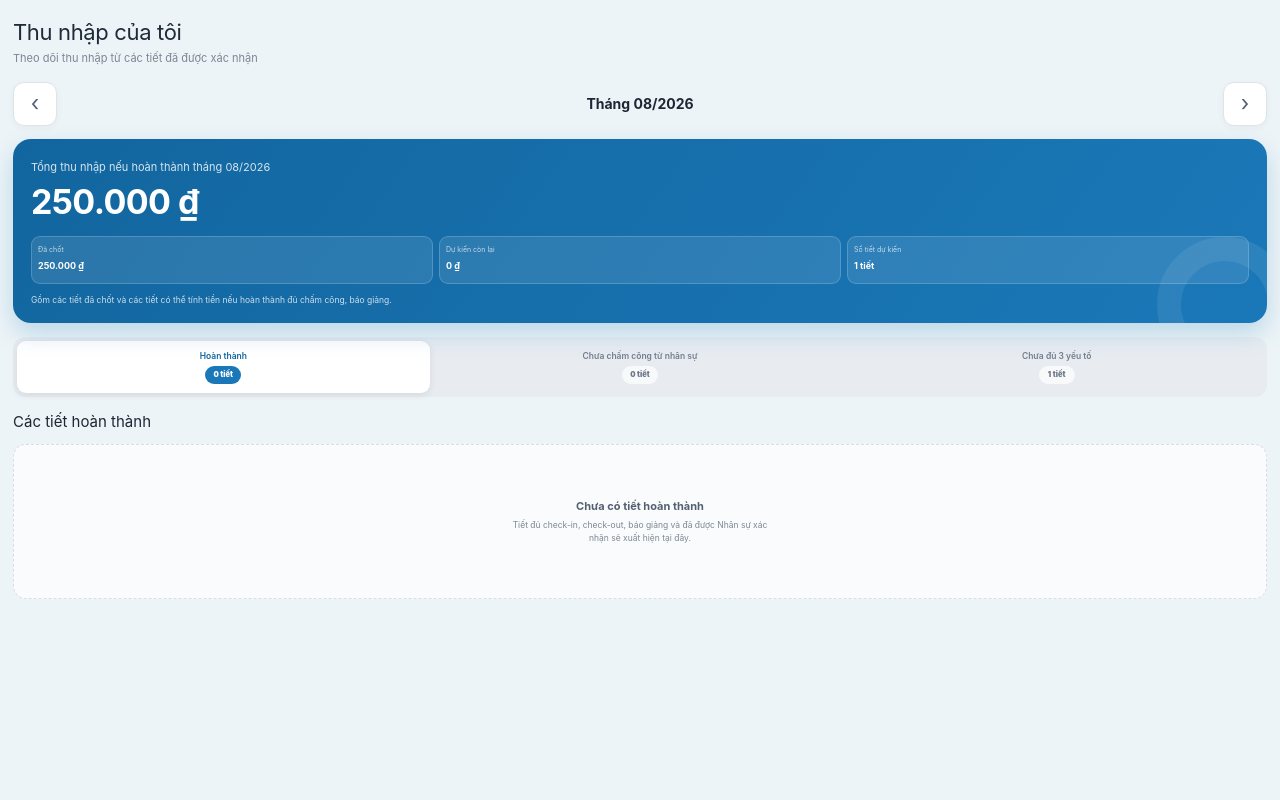
Test: TeacherIncomeScreen › đánh dấu tiết liên tục là đủ check-in và check-out trong nhóm doanh thu
Click the tab "Chưa đủ 3 yếu tố 1 tiết": (1057, 367) [850,341,1263,393]
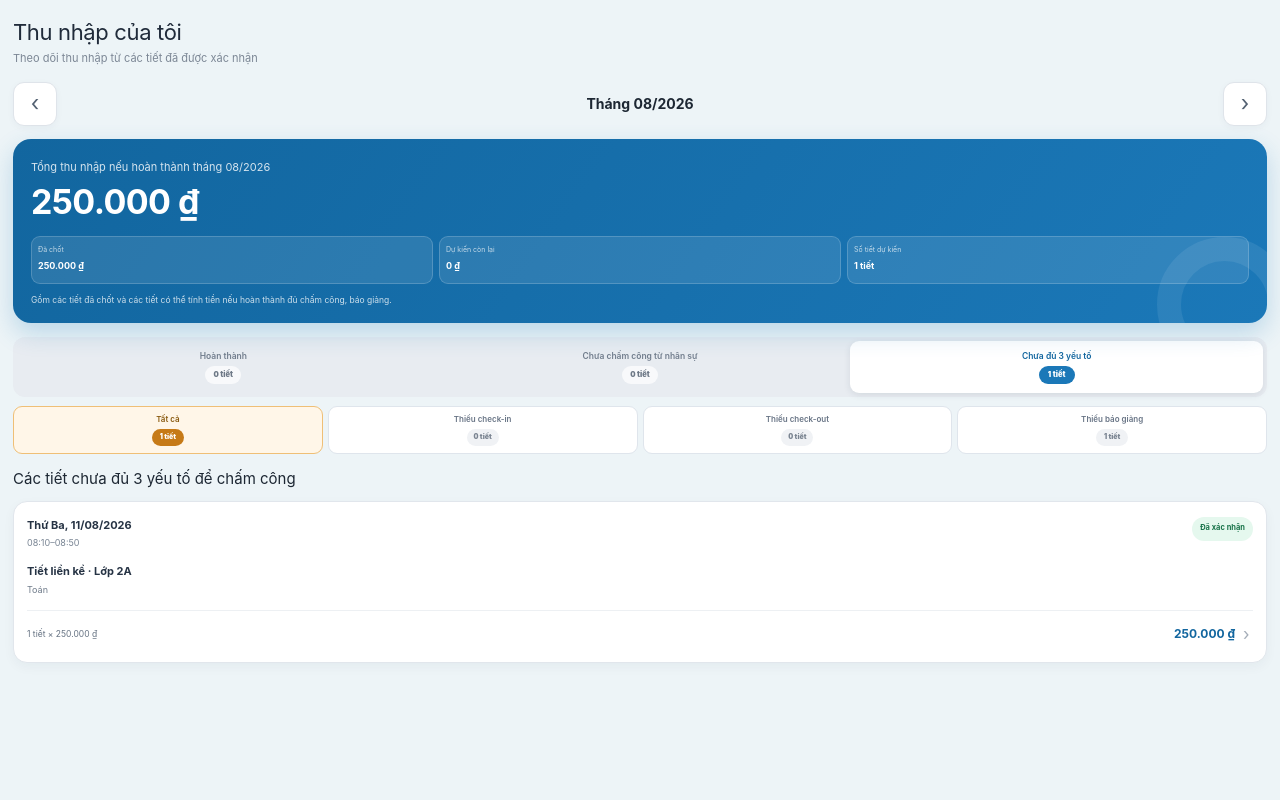
expect the button "Thiếu check-in 0 tiết" is shown: met, box [328,406,638,454]
expect the button "Thiếu check-out 0 tiết" is shown: met, box [642,406,952,454]
expect the button "Thiếu báo giảng 1 tiết" is shown: met
Click the button "Thiếu báo giảng 1 tiết": (1112, 430) [957,406,1267,454]
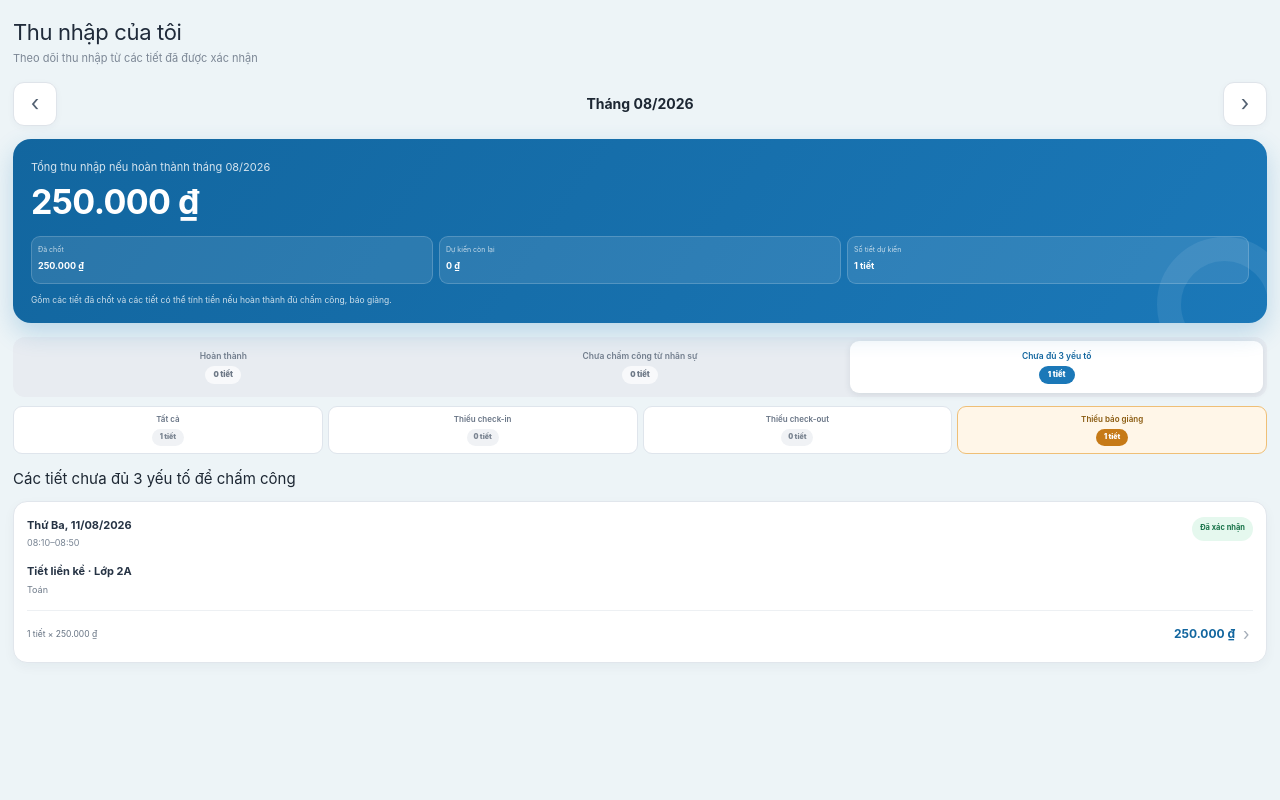
expect the text "Tiết liền kề · Lớp 2A" is shown: met, box [27,564,132,578]
Click the button with aria-label "Xem chi tiết thu nhập ngày 11/08/2026": (640, 582) [13,501,1267,663]
(page scrolled)
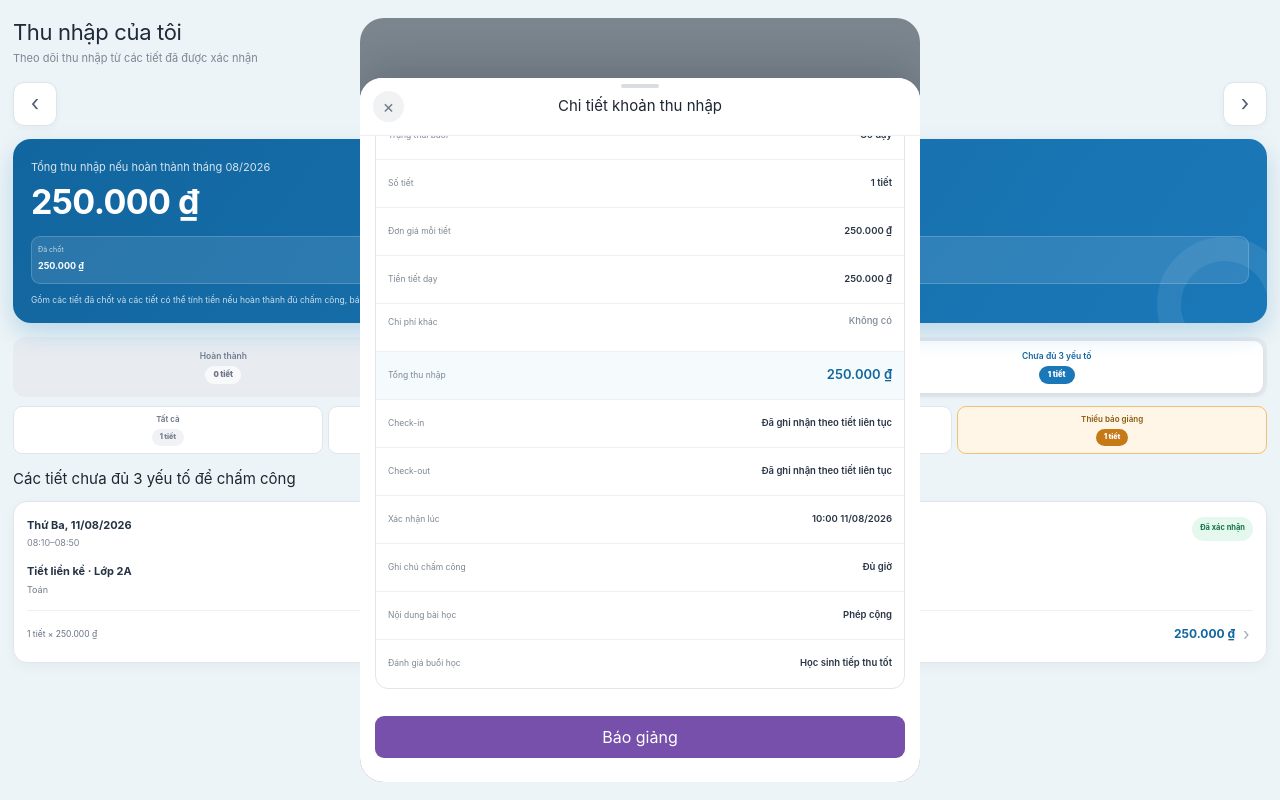
expect the text "Đã ghi nhận theo tiết liên tục" is shown 2 times: met, box [761,417,892,428]; [761,465,892,476]
expect the button "Báo giảng" is shown: met, box [375,716,905,758]
